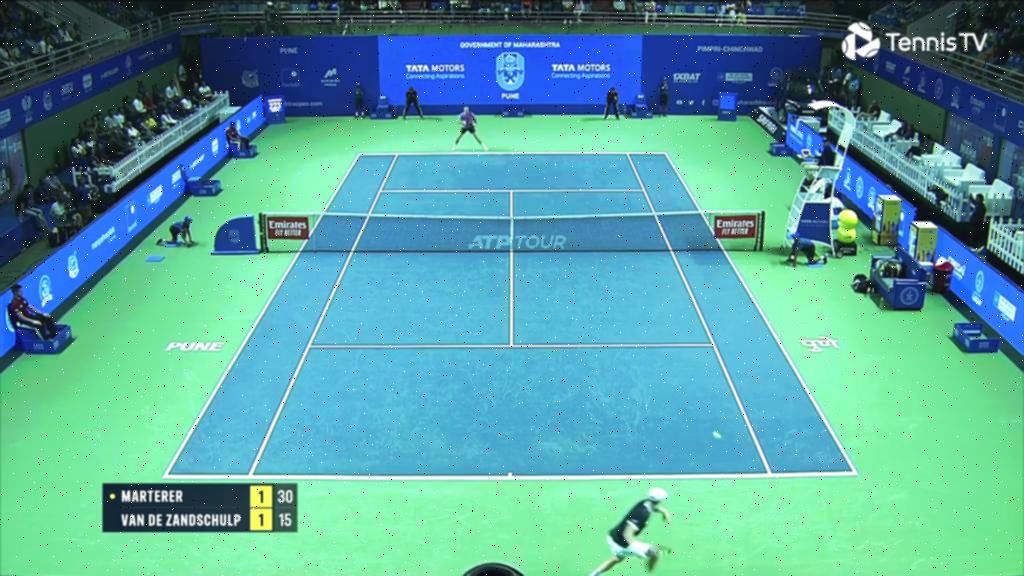tennis-court: (162, 152, 860, 480)
